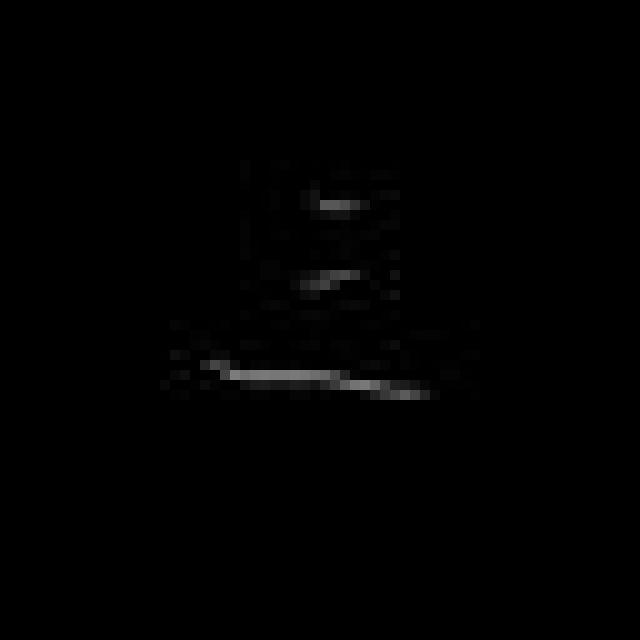3 -three-: (196, 176, 435, 434)
